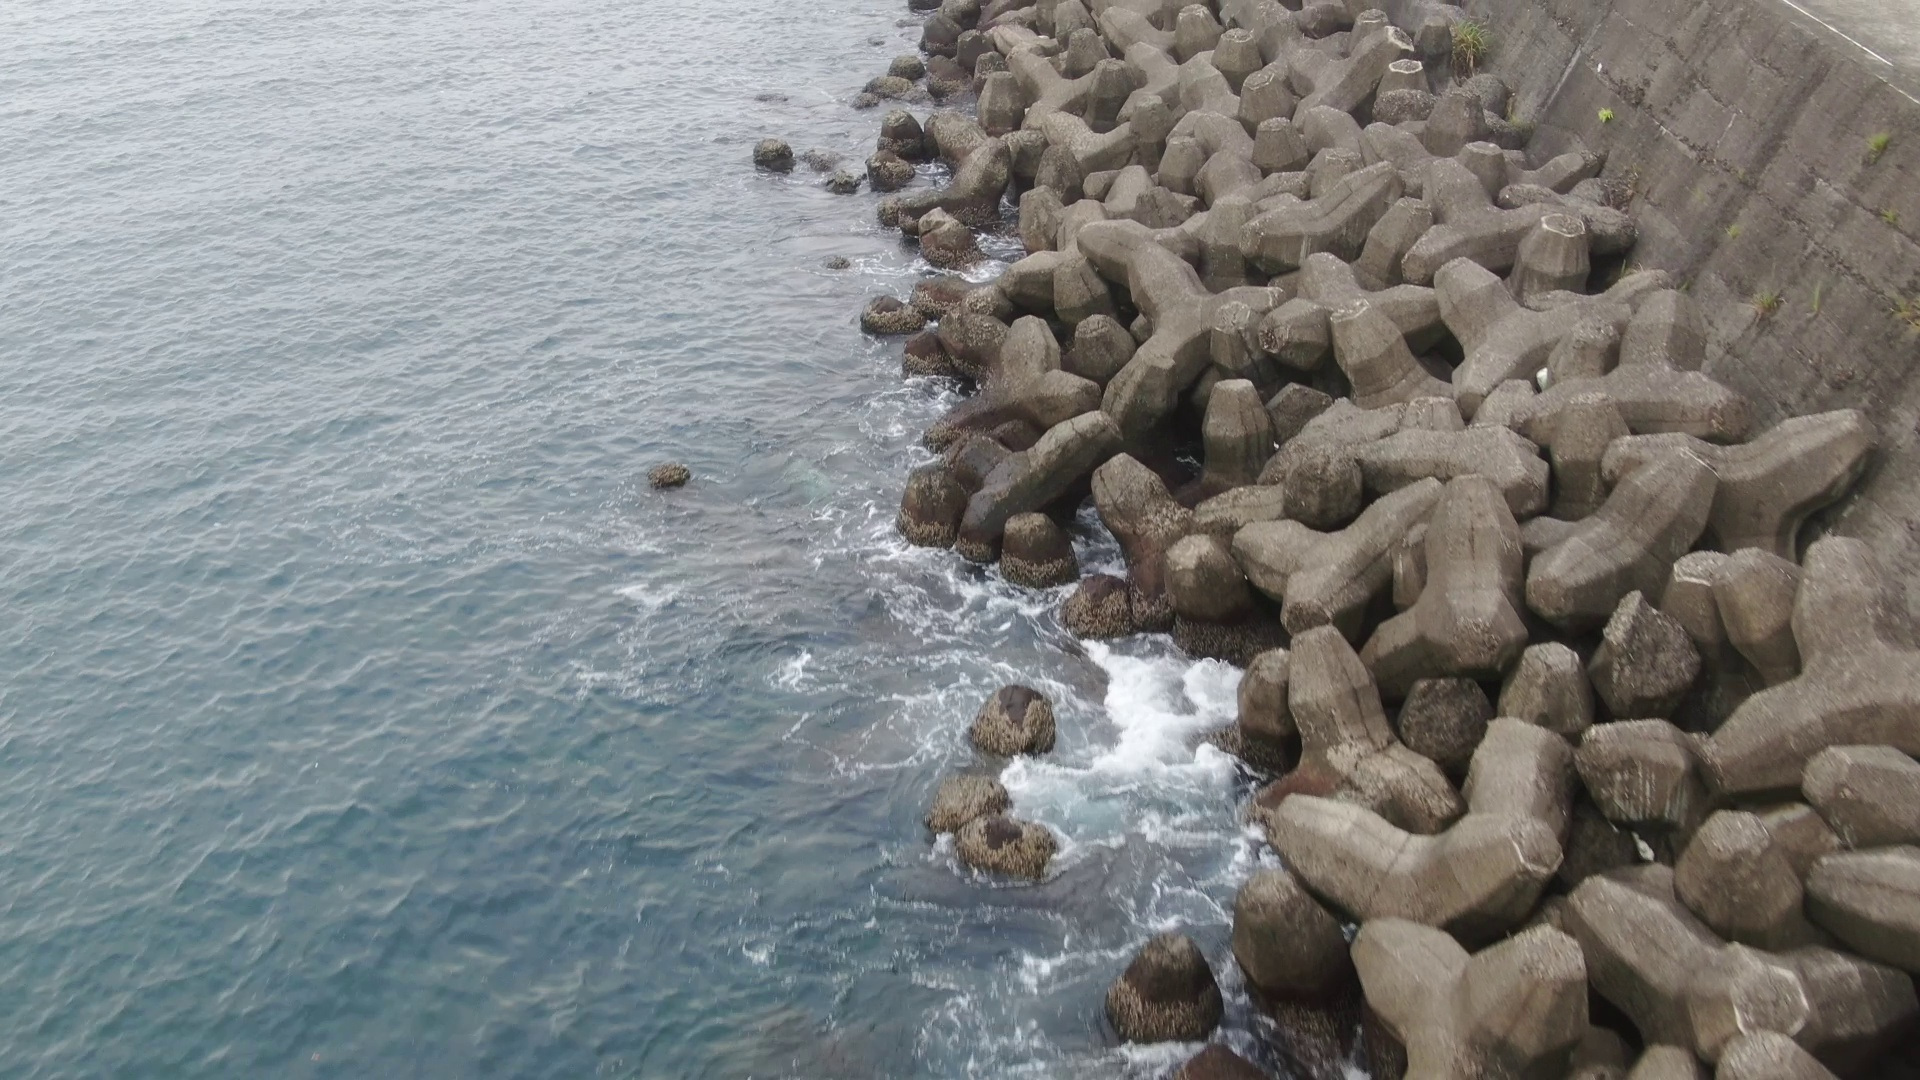garbage: (1536, 365, 1555, 394)
